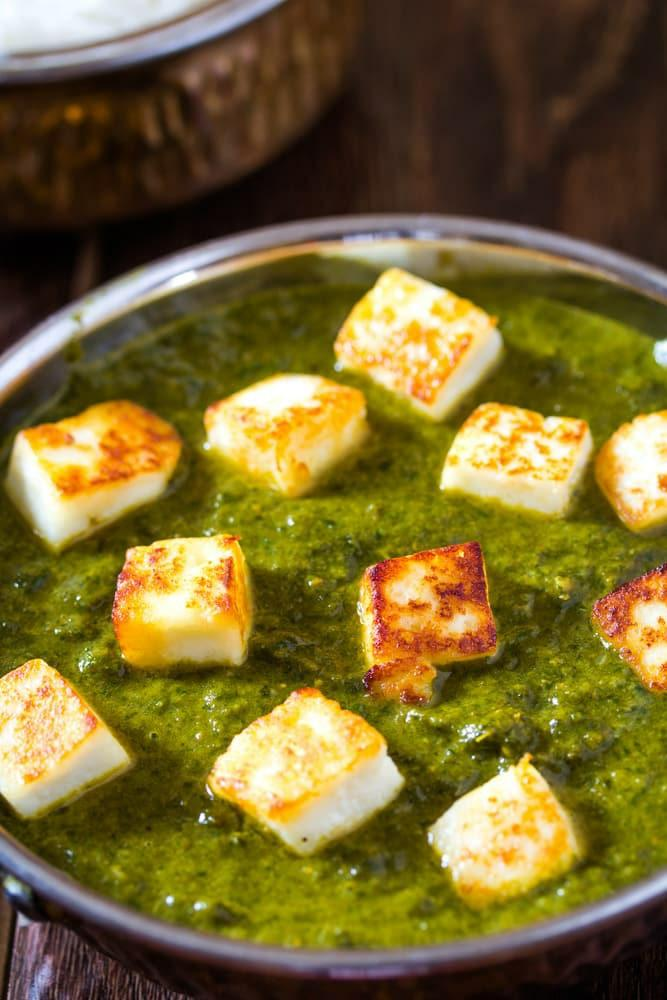PalakPaneer: (1, 259, 667, 941)
